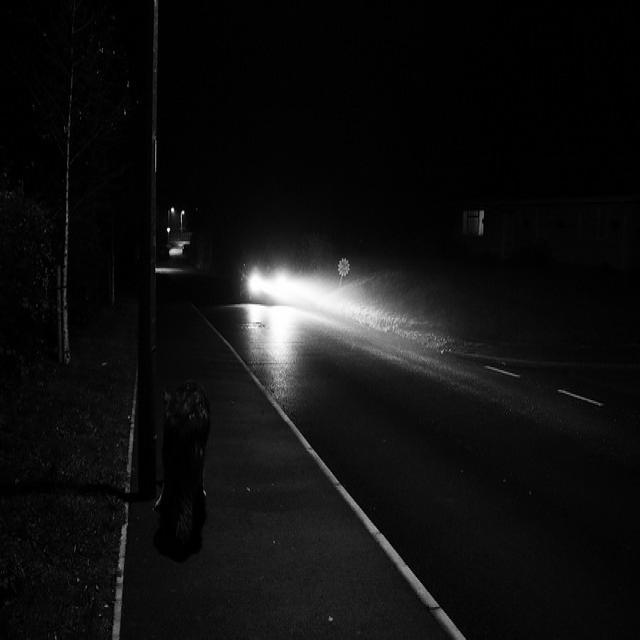Car: (232, 232, 324, 328)
Dog: (136, 372, 223, 537)
